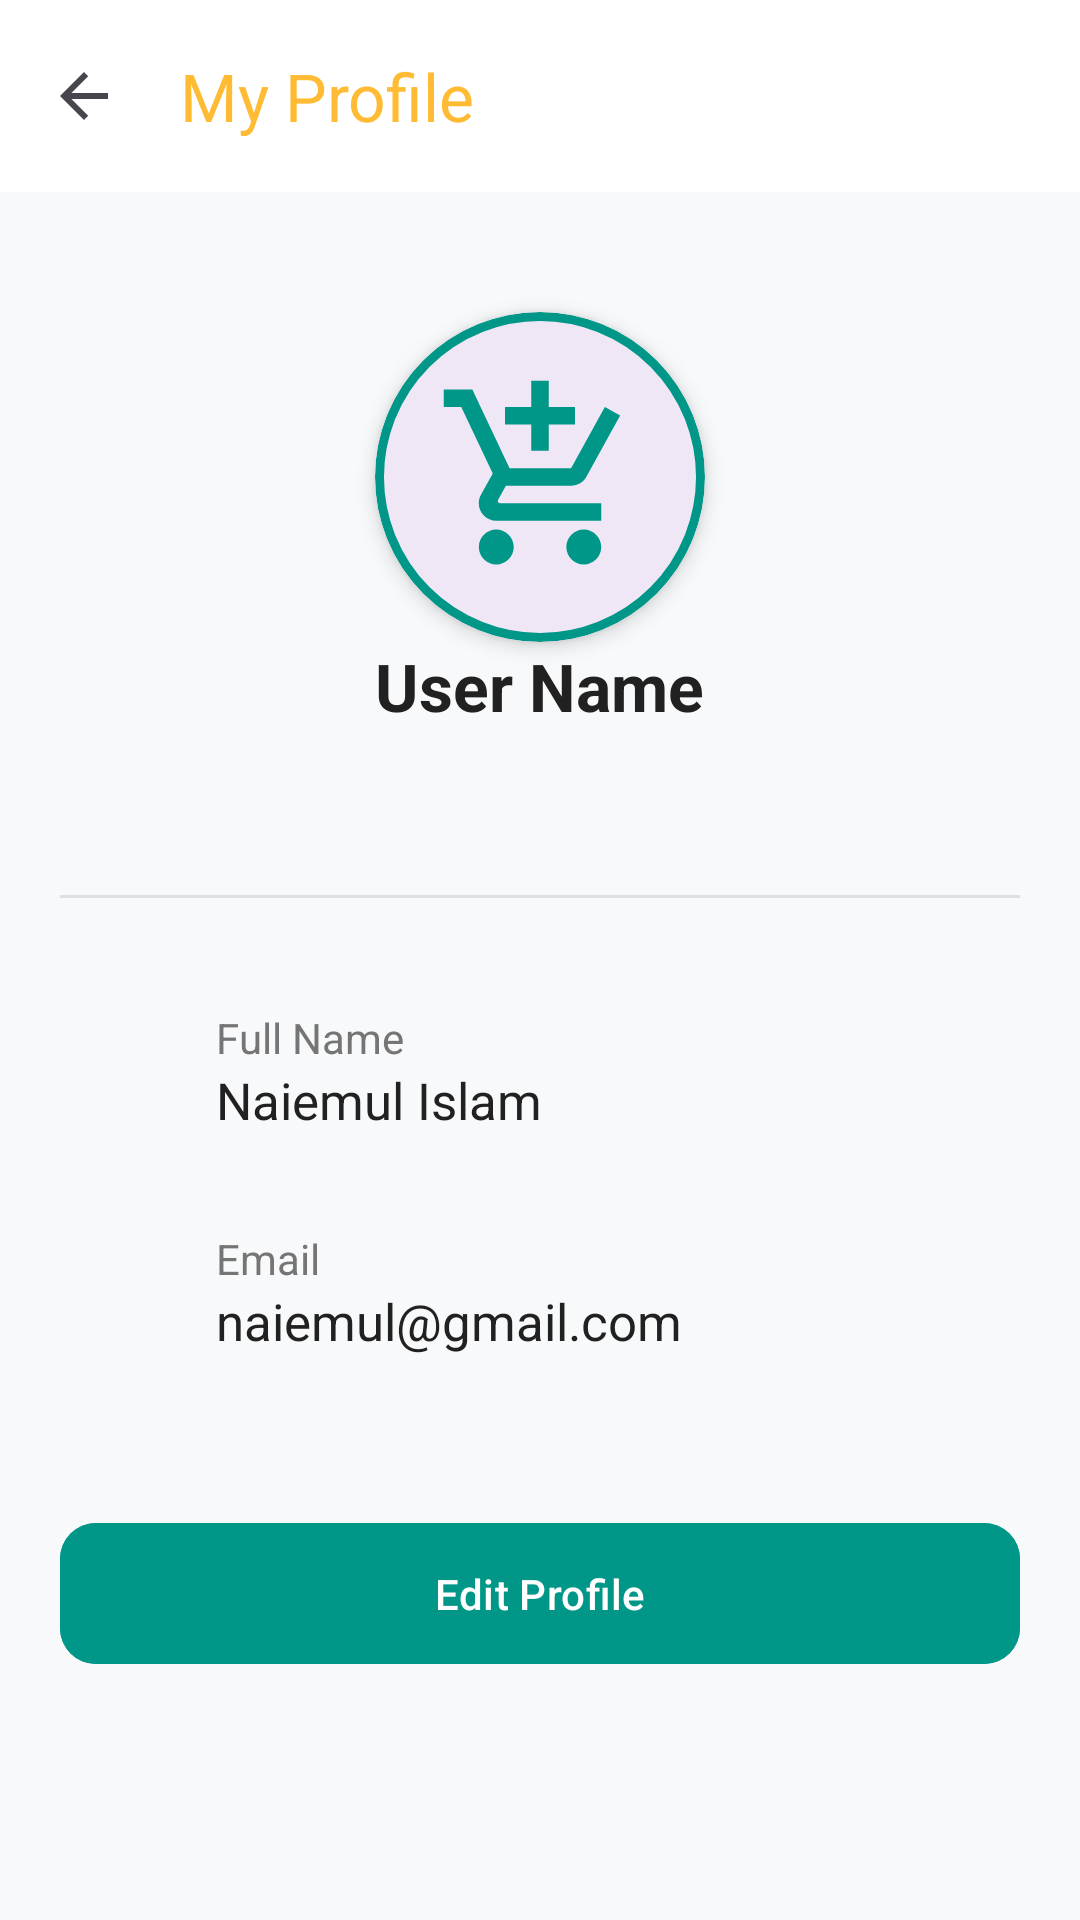

Icon click points for this 1080px×1920px phone screenshot, format point (x, y):
add shopping cart: point (540, 477)
